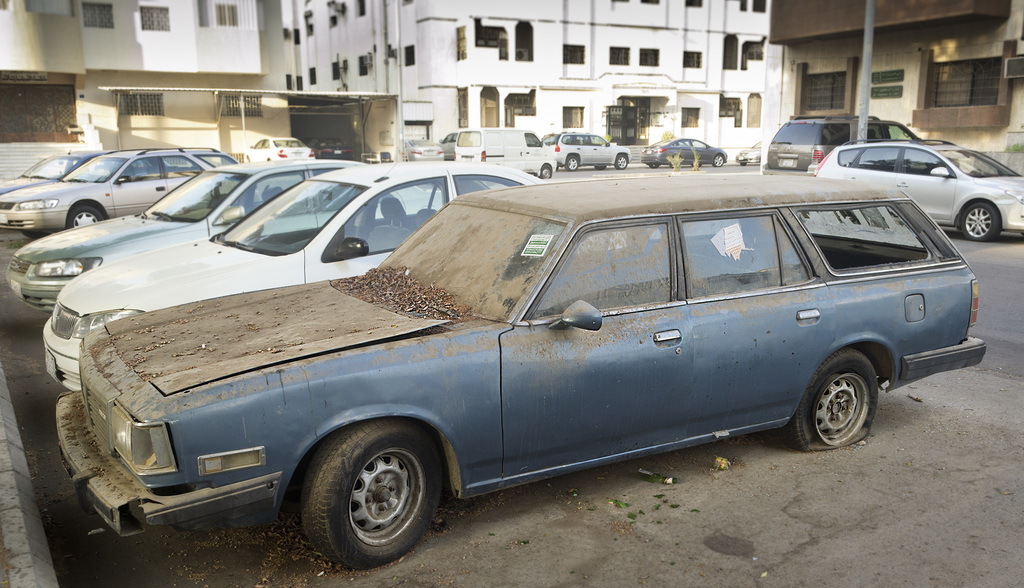Car: (49, 171, 988, 571), (35, 160, 663, 392), (1, 156, 448, 313), (0, 143, 299, 240), (810, 135, 1023, 242), (761, 112, 945, 177), (0, 146, 193, 197), (539, 132, 632, 170), (636, 135, 727, 166), (240, 137, 316, 163), (304, 137, 357, 158), (733, 135, 761, 165), (404, 137, 443, 156), (435, 128, 459, 156)
